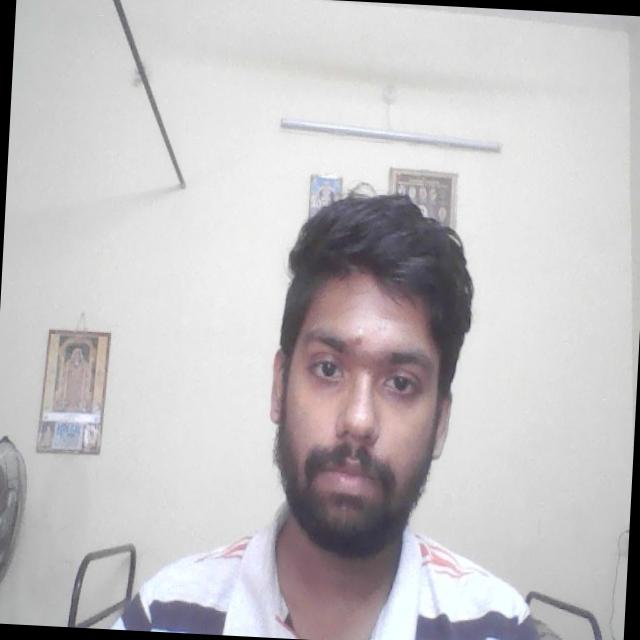Focused: (260, 281, 452, 536)
